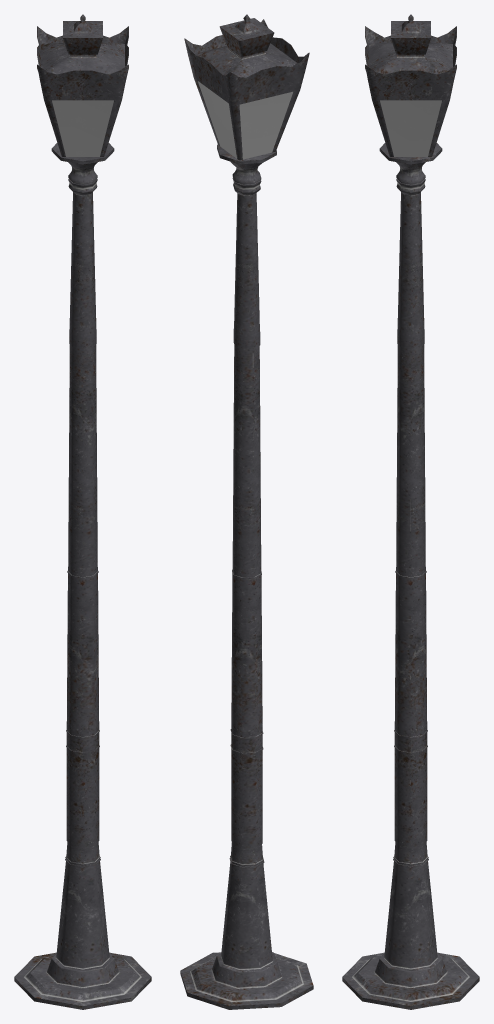
File: lamp.obj
3 renders of one model, left to right at view 1: azimuth 90°, elevation 25°; view 2: azimuth 210°, elevation 25°; view 3: azimuth 270°, elevation 25°, orthographic.
Visible parts, largest first — view 1: OldStreetLight, StreepLampTop, WhiteSidingWindow; view 2: OldStreetLight, StreepLampTop, WhiteSidingWindow; view 3: OldStreetLight, StreepLampTop, WhiteSidingWindow.
Boxes of the visible parts, <box> form: OldStreetLight: <box>14,143,151,1009</box>; StreepLampTop: <box>37,14,128,156</box>; WhiteSidingWindow: <box>52,100,113,156</box>; OldStreetLight: <box>180,144,313,1009</box>; StreepLampTop: <box>184,14,309,160</box>; WhiteSidingWindow: <box>198,81,293,159</box>; OldStreetLight: <box>342,143,479,1009</box>; StreepLampTop: <box>365,14,456,156</box>; WhiteSidingWindow: <box>380,100,441,156</box>.
Size of the model in its own units: 32.36 by 251 by 32.36.
Materials: 3 (3 with a texture image).
